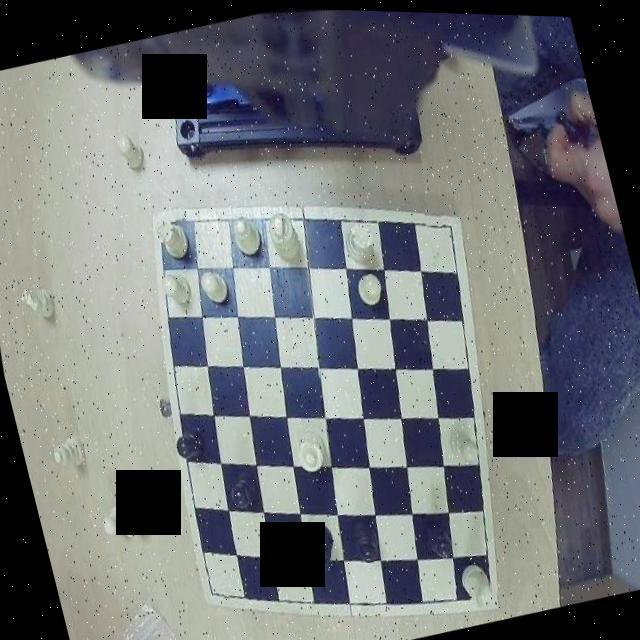chess-table-corners: (150, 196, 190, 239), (422, 201, 462, 242), (464, 567, 502, 607), (200, 568, 232, 604)
